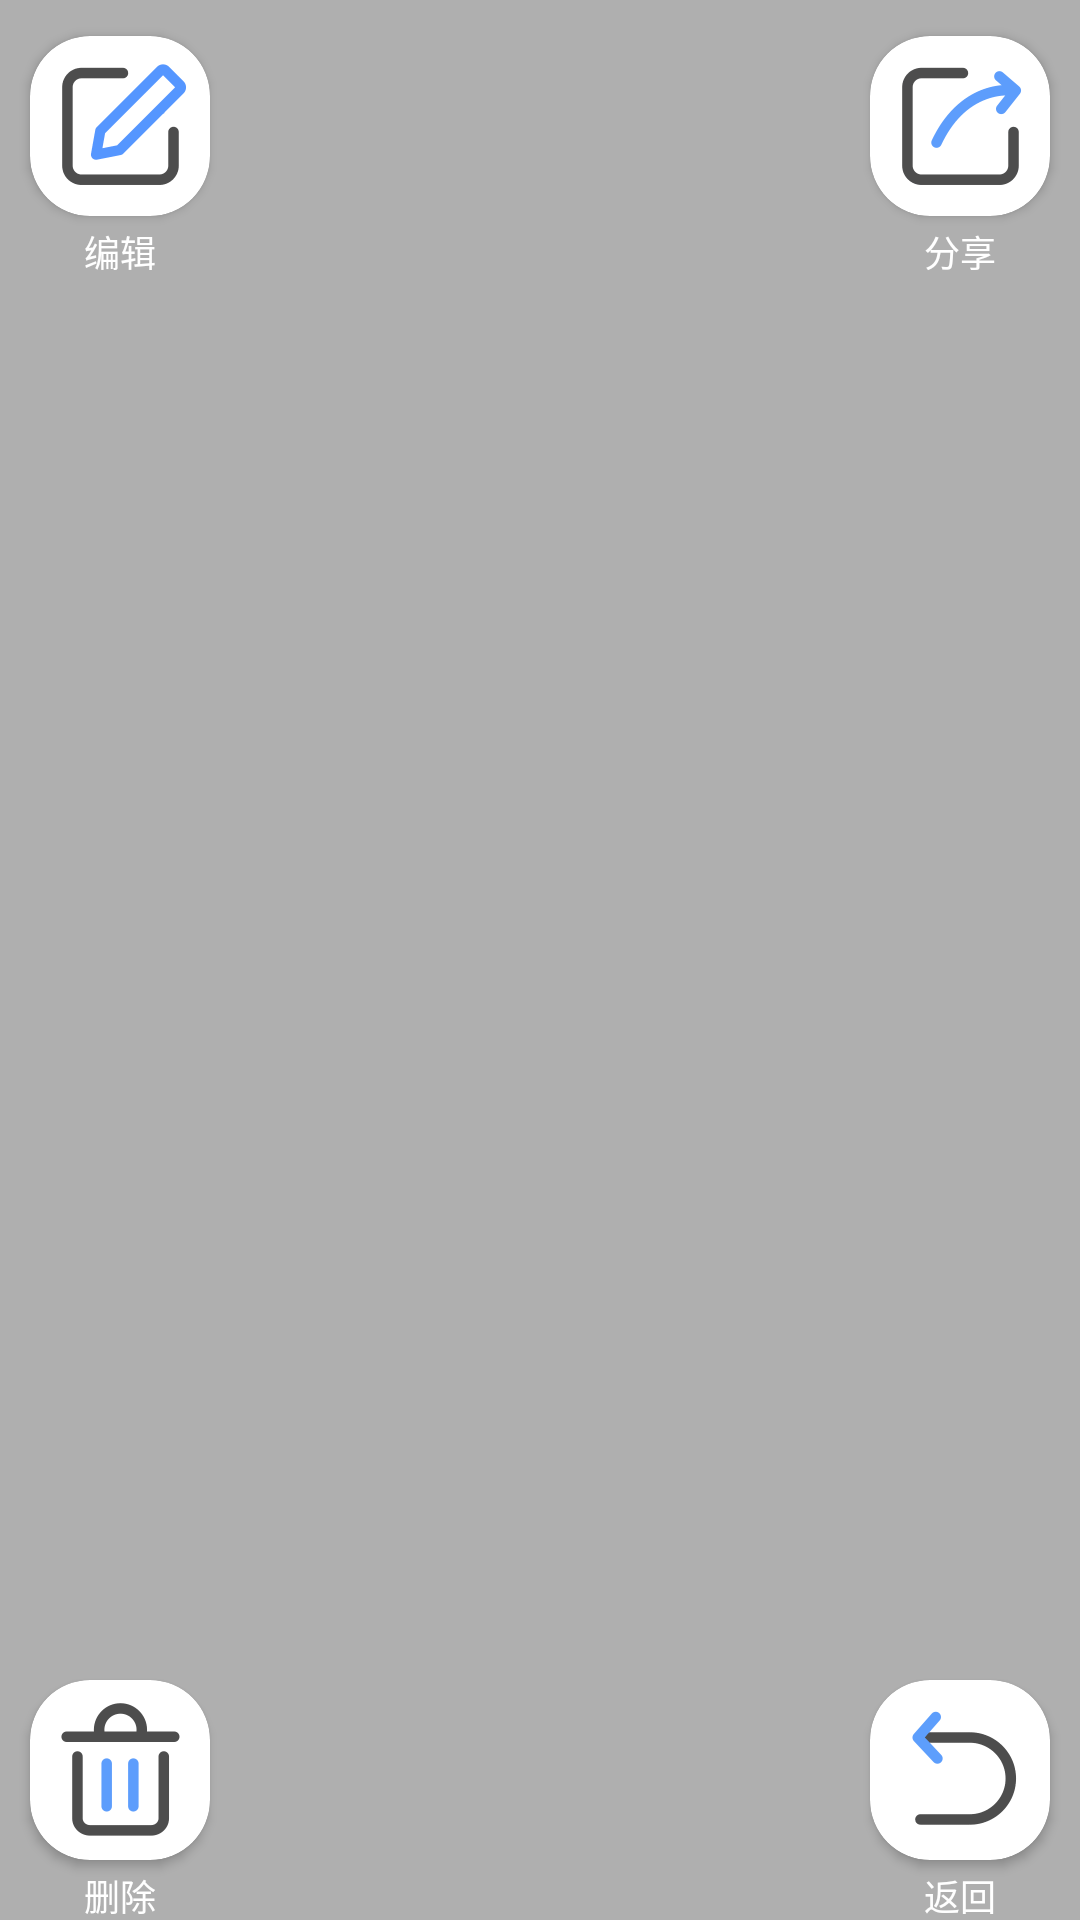

Where to tap for icons on this 1080x1920 app screen, as point (x, y):
note opt back: point (964, 1768)
note opt delete: point (120, 1769)
note opt edit: point (124, 124)
note opt share: point (961, 126)
